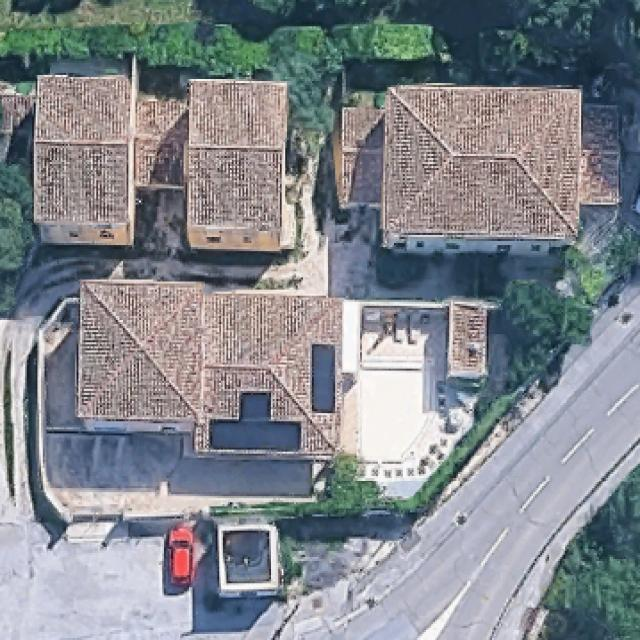maison: (338, 84, 621, 255), (135, 79, 292, 251), (194, 289, 341, 454), (0, 75, 134, 245), (76, 281, 202, 430), (449, 302, 488, 377)
